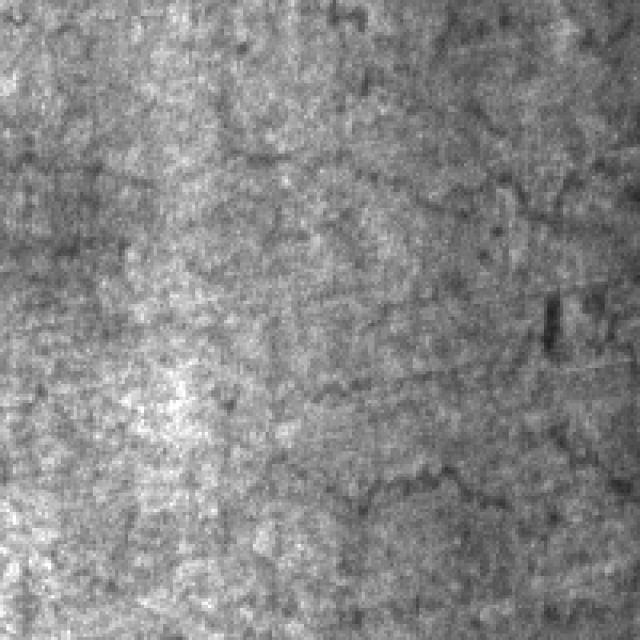crazing: (0, 147, 637, 314), (275, 320, 637, 538), (323, 0, 637, 138)
